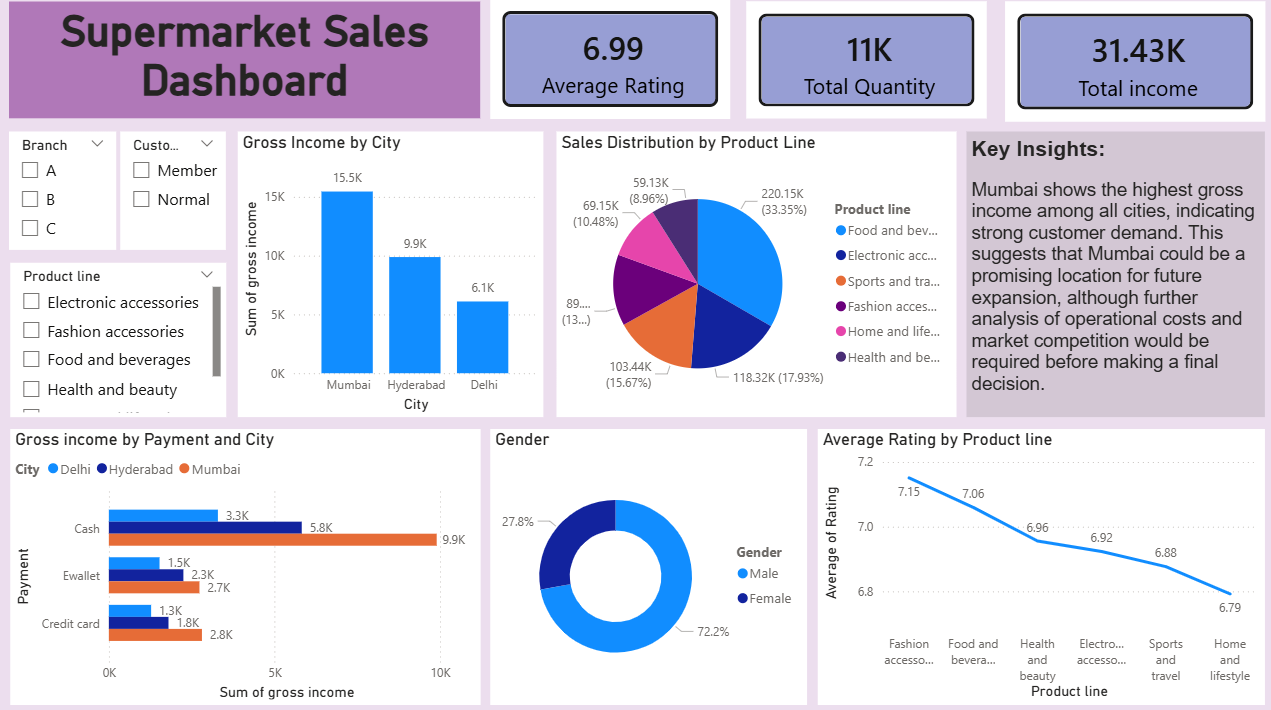

The page's visual inventory and layout, read from the dashboard file:
{"tool":"powerbi","page":{"name":"Page 1","canvas":[1280,720],"ordinal":0},"visuals":[{"type":"textbox","box":[10,2.9,471.4,117.1],"z":0},{"type":"cardVisual","fields":{"Data":["Sum(Realmart Sales Dataset.Quantity)"]},"box":[747.1,2.9,240,117.1],"z":1000},{"type":"donutChart","title":"Gender","fields":{"Category":["Realmart Sales Dataset.Gender"],"Y":["CountNonNull(Realmart Sales Dataset.Gender)"]},"box":[491.4,430,317.1,275.7],"z":2000},{"type":"cardVisual","fields":{"Data":["Avg(Realmart Sales Dataset.Rating)"]},"box":[491.2,0,240,120],"z":3000},{"type":"cardVisual","fields":{"Data":["Sum(Realmart Sales Dataset.gross income)"]},"box":[1005.7,2.9,260,120],"z":4000},{"type":"columnChart","title":"Gross Income by City","fields":{"Category":["Realmart Sales Dataset.City"],"Y":["Sum(Realmart Sales Dataset.gross income)"]},"box":[238.6,132.9,305.7,285.7],"z":5000},{"type":"clusteredBarChart","title":"Gross income by Payment and City","fields":{"Category":["Realmart Sales Dataset.Payment"],"Y":["Sum(Realmart Sales Dataset.gross income)"],"Series":["Realmart Sales Dataset.City"]},"box":[11.4,430,470,275.7],"z":6000},{"type":"pieChart","title":"Sales Distribution by Product Line","fields":{"Category":["Realmart Sales Dataset.Product line"],"Y":["Sum(Realmart Sales Dataset.Total)"]},"box":[557.1,132.9,400,285.7],"z":7000},{"type":"lineChart","title":"Average Rating by Product line","fields":{"Category":["Realmart Sales Dataset.Product line"],"Y":["Avg(Realmart Sales Dataset.Rating)"]},"box":[818.6,430,447.1,275.7],"z":8000},{"type":"slicer","fields":{"Values":["Realmart Sales Dataset.Branch"]},"box":[10,132.9,107.1,118.6],"z":9000},{"type":"slicer","fields":{"Values":["Realmart Sales Dataset.Product line"]},"box":[11.4,264.3,215.7,154.3],"z":10000},{"type":"slicer","fields":{"Values":["Realmart Sales Dataset.Customer type"]},"box":[121.4,132.9,105.7,118.6],"z":11000},{"type":"textbox","box":[967.1,132.9,298.6,285.7],"z":12000}]}

Visuals, with their boxes in screenshot pixels (x1, y1, x2, y2), scaled from the page's 1280x720 canvas onto the 1271x710 screenshot:
textbox: box=[10, 3, 478, 118]
cardVisual - Sum(Realmart Sales Dataset.Quantity): box=[742, 3, 980, 118]
"Gender" donutChart: box=[488, 424, 803, 696]
cardVisual - Avg(Realmart Sales Dataset.Rating): box=[488, 0, 726, 118]
cardVisual - Sum(Realmart Sales Dataset.gross income): box=[999, 3, 1257, 121]
"Gross Income by City" columnChart: box=[237, 131, 540, 413]
"Gross income by Payment and City" clusteredBarChart: box=[11, 424, 478, 696]
"Sales Distribution by Product Line" pieChart: box=[553, 131, 950, 413]
"Average Rating by Product line" lineChart: box=[813, 424, 1257, 696]
slicer - Realmart Sales Dataset.Branch: box=[10, 131, 116, 248]
slicer - Realmart Sales Dataset.Product line: box=[11, 261, 226, 413]
slicer - Realmart Sales Dataset.Customer type: box=[121, 131, 226, 248]
textbox: box=[960, 131, 1257, 413]
